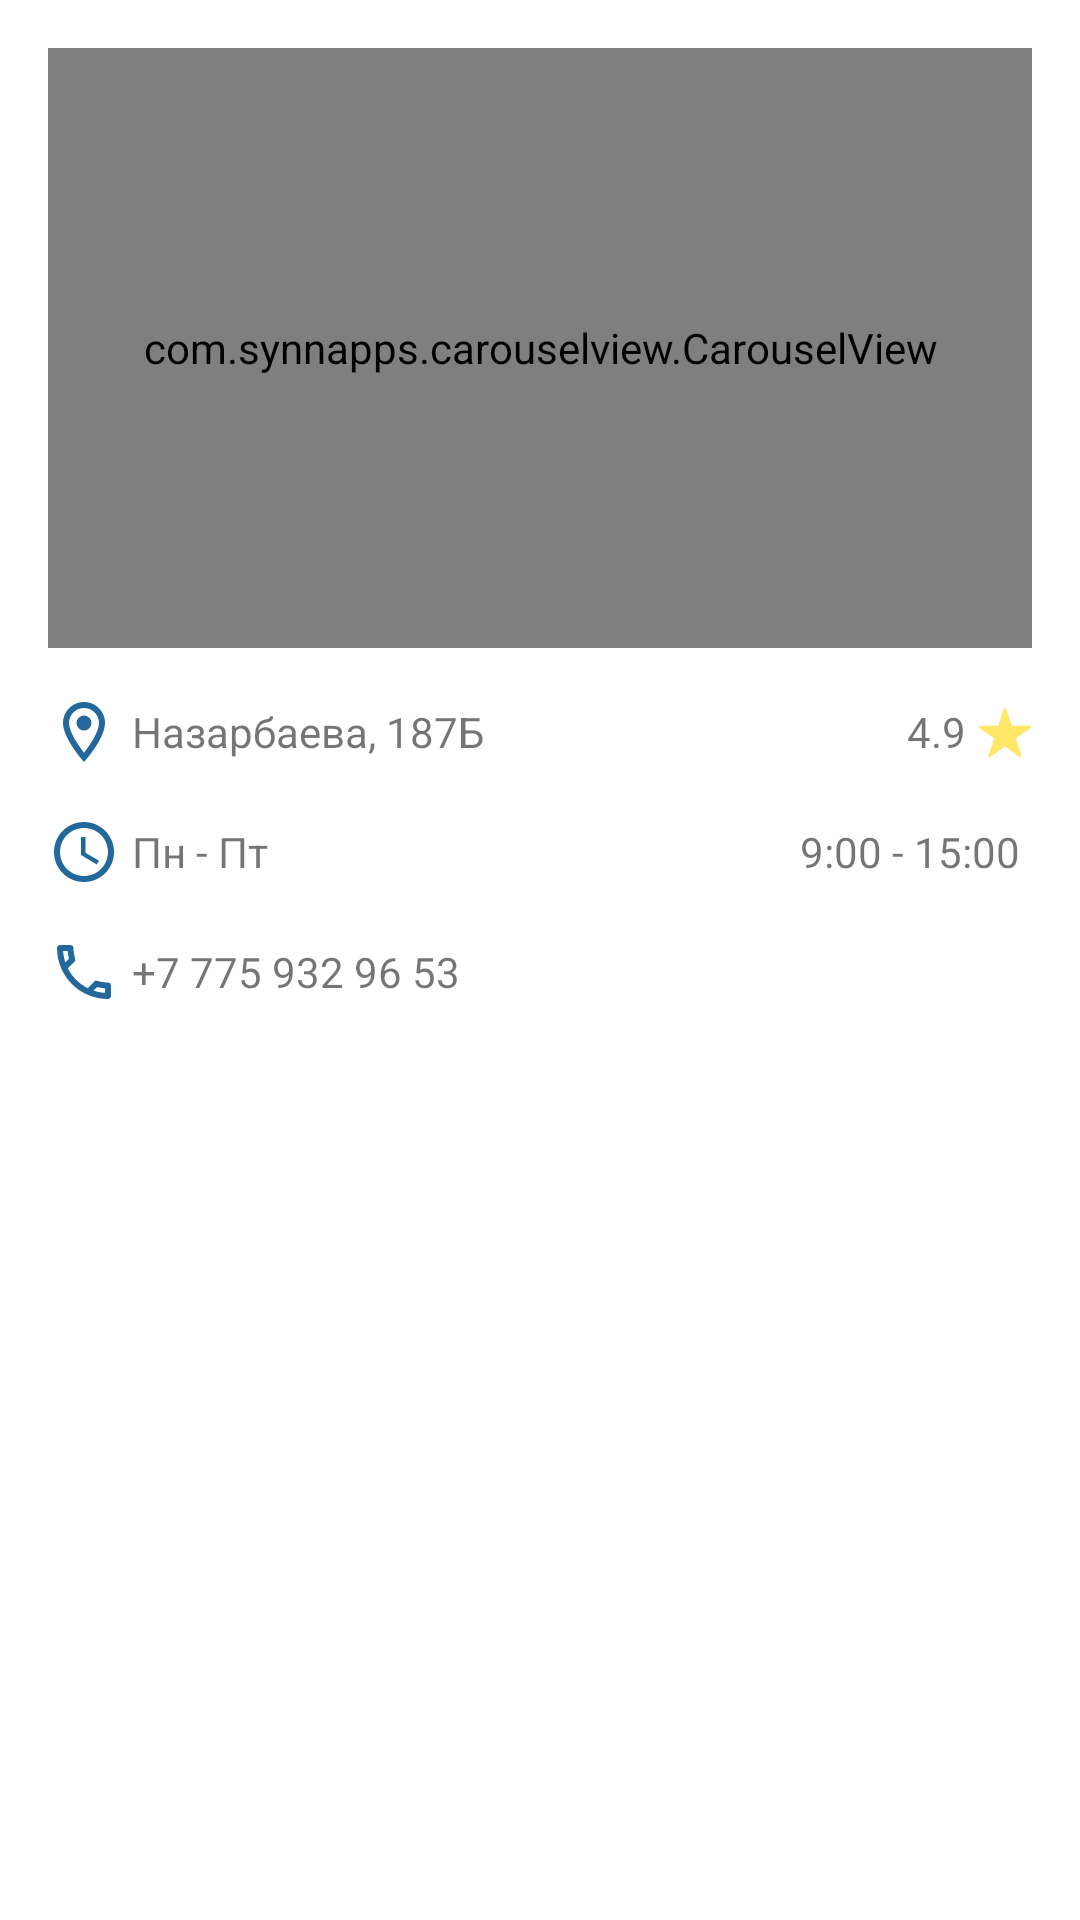

Point at icon controls on the screen. Image size 1080*1920, points as [x,y].
access time: [84,852]
call: [84,972]
location on: [84,732]
